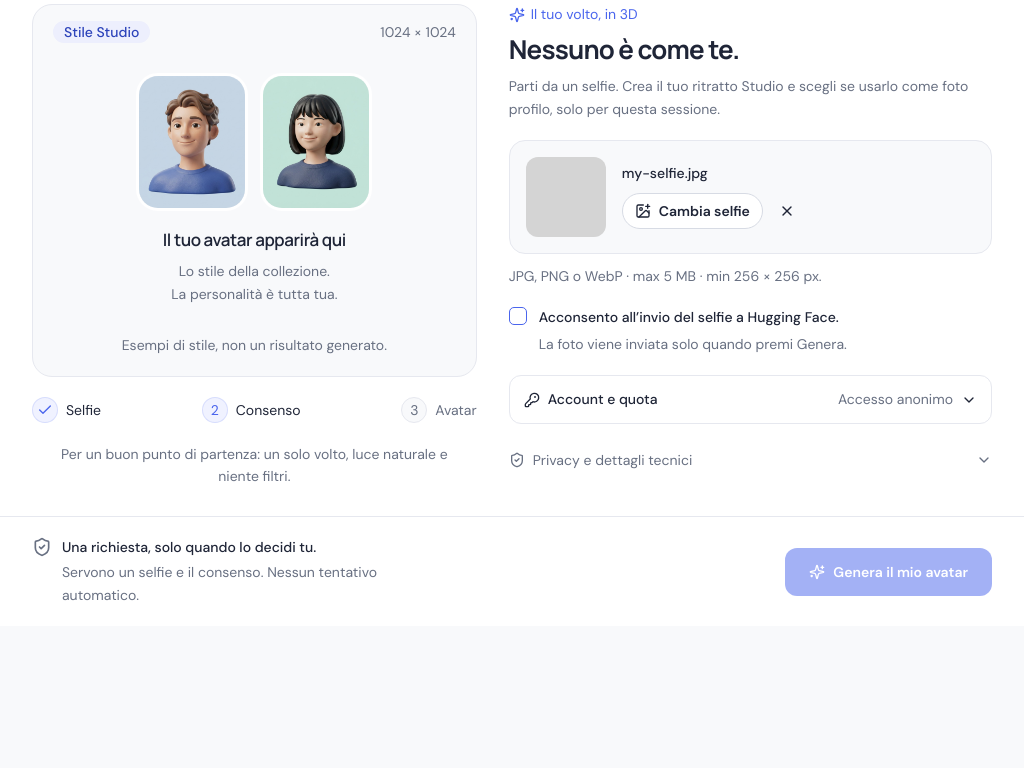
ZeroGPU selfie-to-avatar flow › keeps the consent checkbox compact with a clickable associated label
This screenshot has width=1024, height=768.
Earlier steps of the test are not shown.
Expected: the button "Cambia selfie" is enabled, [622, 193, 763, 229]
Click the text "Acconsento all’invio del selfie a Hugging Face." at (689, 318), box [539, 307, 839, 328]
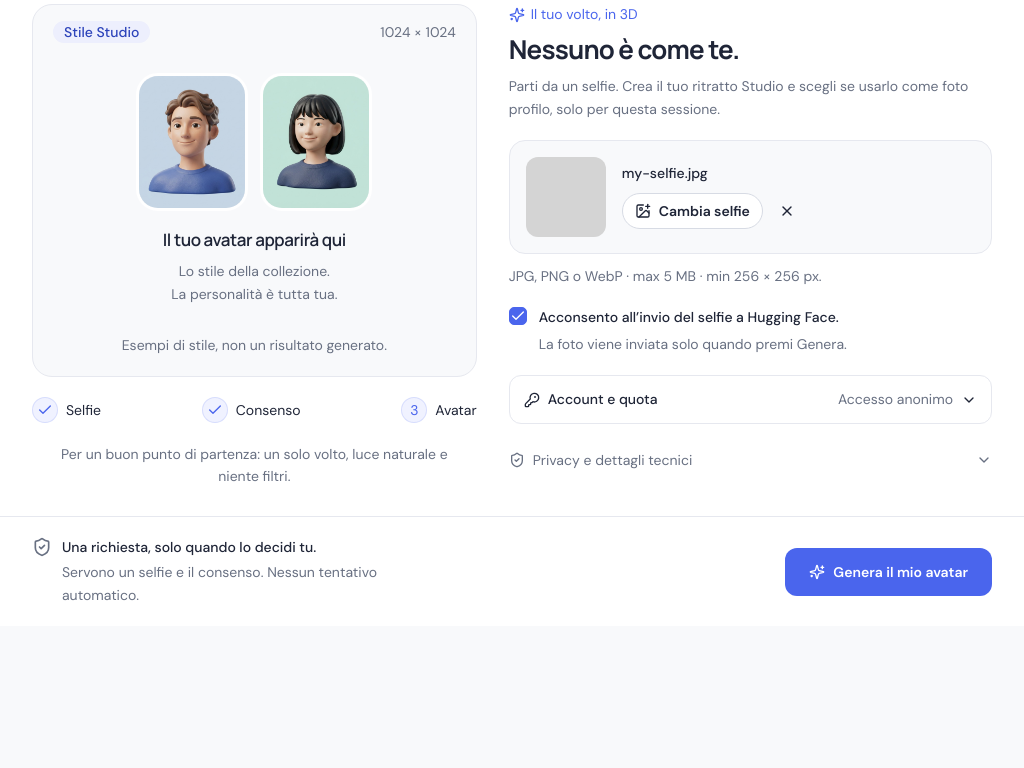
Result: the checkbox is checked at [509, 307, 527, 325]
Click the text "Acconsento all’invio del selfie a Hugging Face." at (689, 318), box [539, 307, 839, 328]
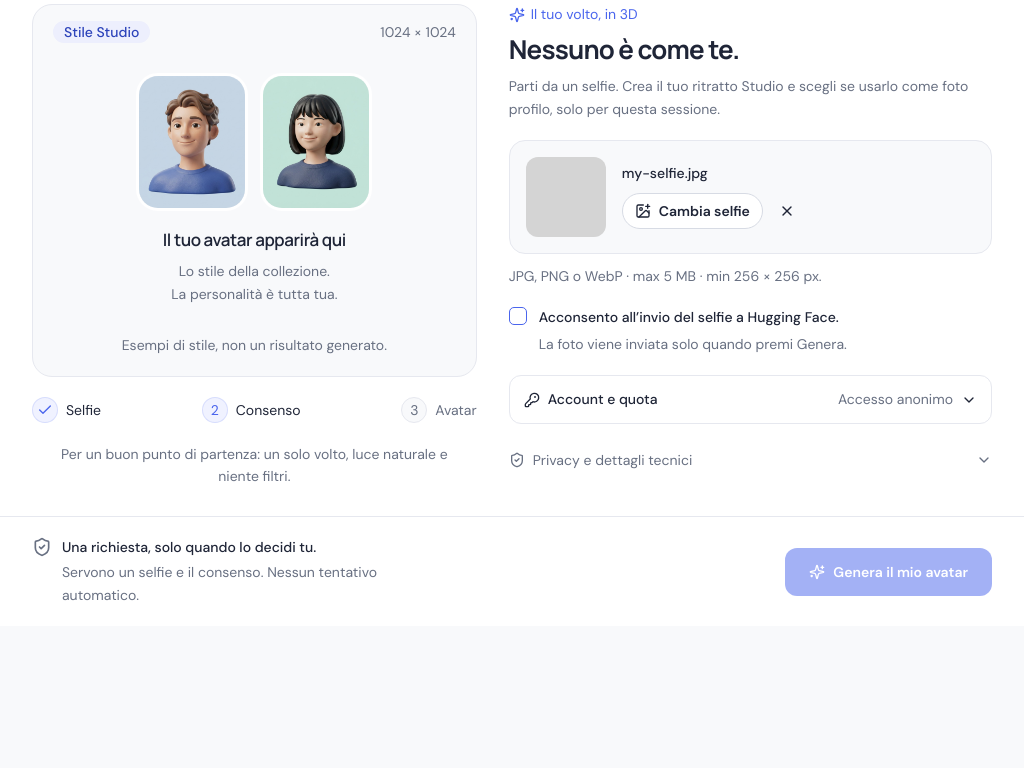
Result: the checkbox is not checked at [509, 307, 527, 325]
